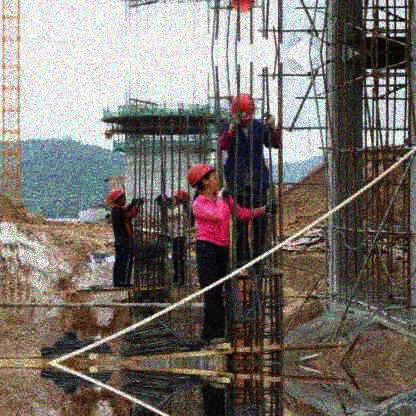helmet: (187, 164, 220, 195), (231, 94, 257, 127), (109, 189, 127, 207), (171, 190, 187, 208)
